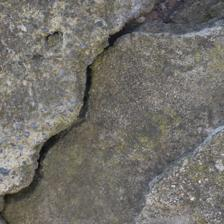Crack: (8, 45, 113, 200)
